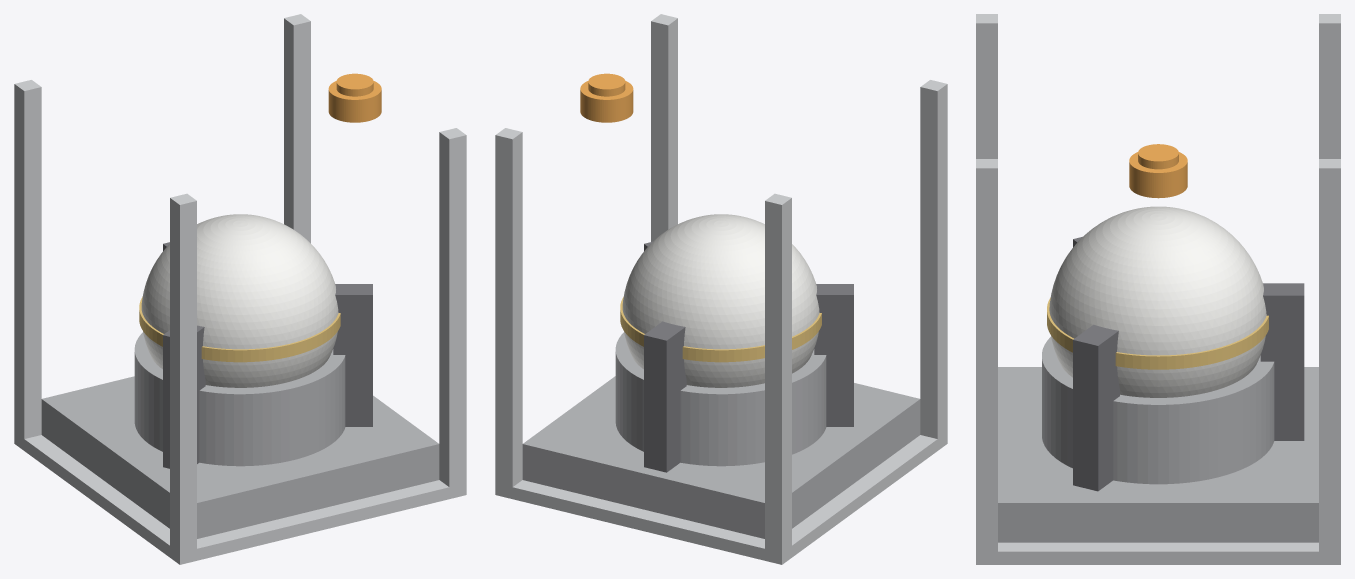
The model's file is sci06_sample_cache_orbiting_container.glb.
3 views of the same model, side by side, from view 1: azimuth 30°, elevation 25°; view 2: azimuth 150°, elevation 25°; view 3: azimuth 270°, elevation 25° (orthographic). The views are drawn at different scales.
Parts seen in each view (by area): view 1: slot_frame, cradle, container, clamps, container_band, port_1; view 2: slot_frame, cradle, container, clamps, port_1, container_band; view 3: cradle, slot_frame, container, clamps, container_band, port_1.
Part boxes in pixels (x1,y1,x2,y2): slot_frame: [14, 14, 466, 564]; cradle: [41, 332, 439, 538]; container: [141, 214, 338, 387]; clamps: [163, 242, 372, 468]; container_band: [139, 297, 340, 362]; port_1: [328, 73, 381, 122]; slot_frame: [495, 14, 947, 564]; cradle: [522, 332, 920, 538]; container: [622, 214, 819, 387]; clamps: [644, 241, 853, 472]; port_1: [580, 73, 633, 122]; container_band: [620, 297, 821, 362]; cradle: [998, 337, 1318, 542]; slot_frame: [976, 14, 1340, 564]; container: [1049, 206, 1266, 397]; clamps: [1073, 236, 1304, 491]; container_band: [1047, 297, 1268, 369]; port_1: [1129, 144, 1187, 198].
Bounding box in the file's own units: 0.5 × 0.6 × 0.5.
